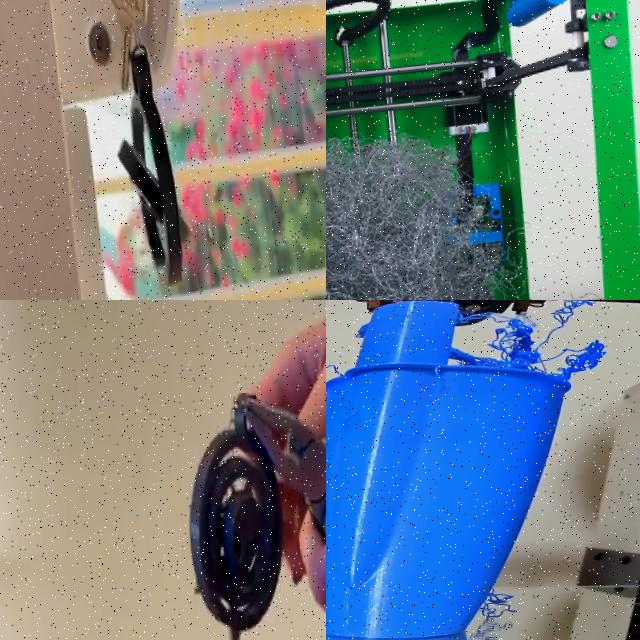spaghetti: (326, 140, 528, 300), (403, 300, 626, 396), (436, 311, 563, 381), (476, 577, 532, 627), (326, 345, 350, 450)
